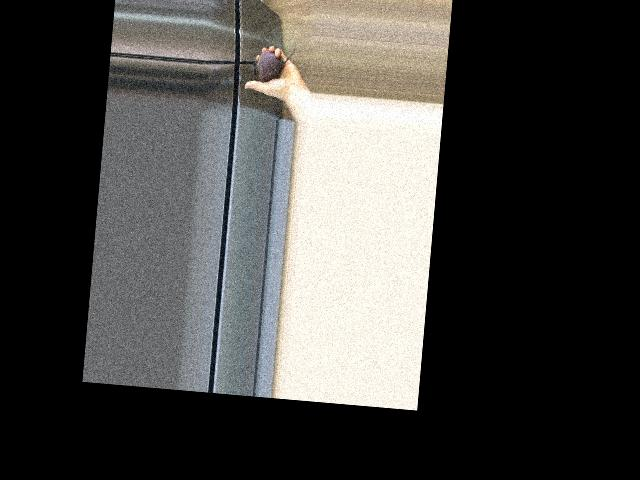beet: (252, 36, 296, 84)
